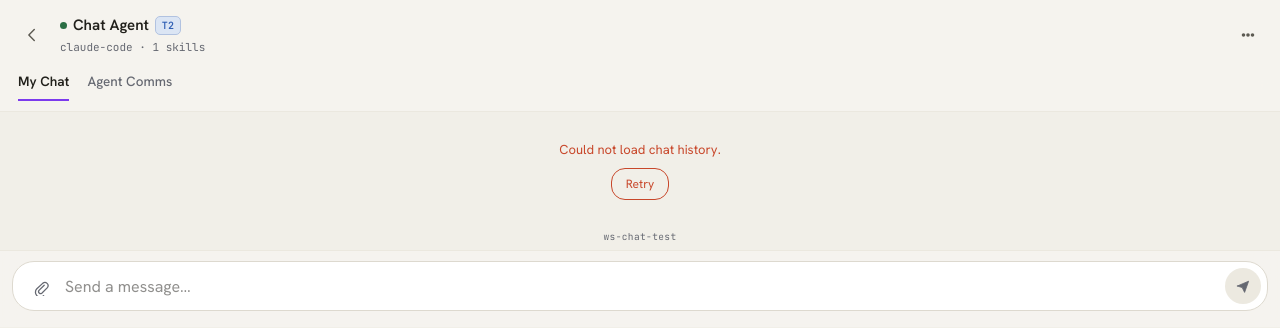
MobileChat — chat history › Retry button re-fetches history after error
Click the button "Retry". click: {"x": 640, "y": 184}
box: x1=611 y1=168 x2=669 y2=200
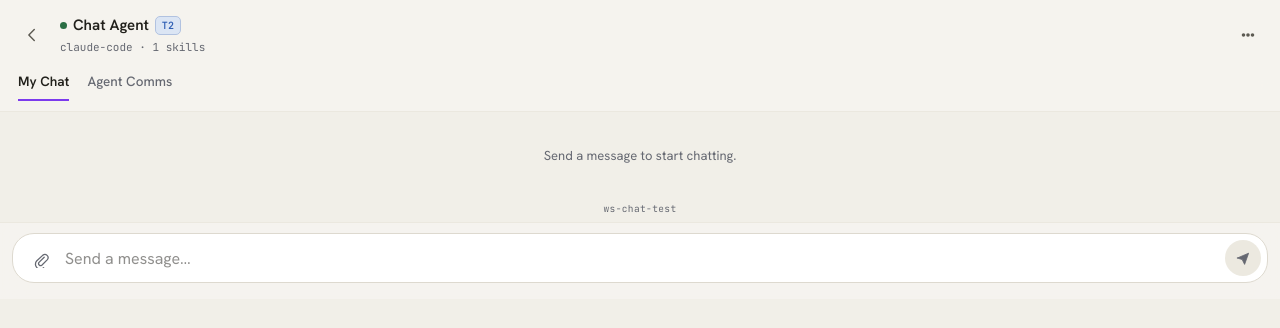
Expected: the text "Send a message to start chatting." is shown, x1=544 y1=147 x2=736 y2=164
